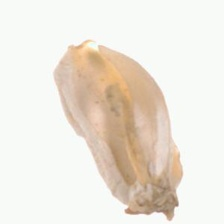L1: (124, 187, 182, 219), (61, 37, 113, 63)
L2: (51, 40, 184, 221)
